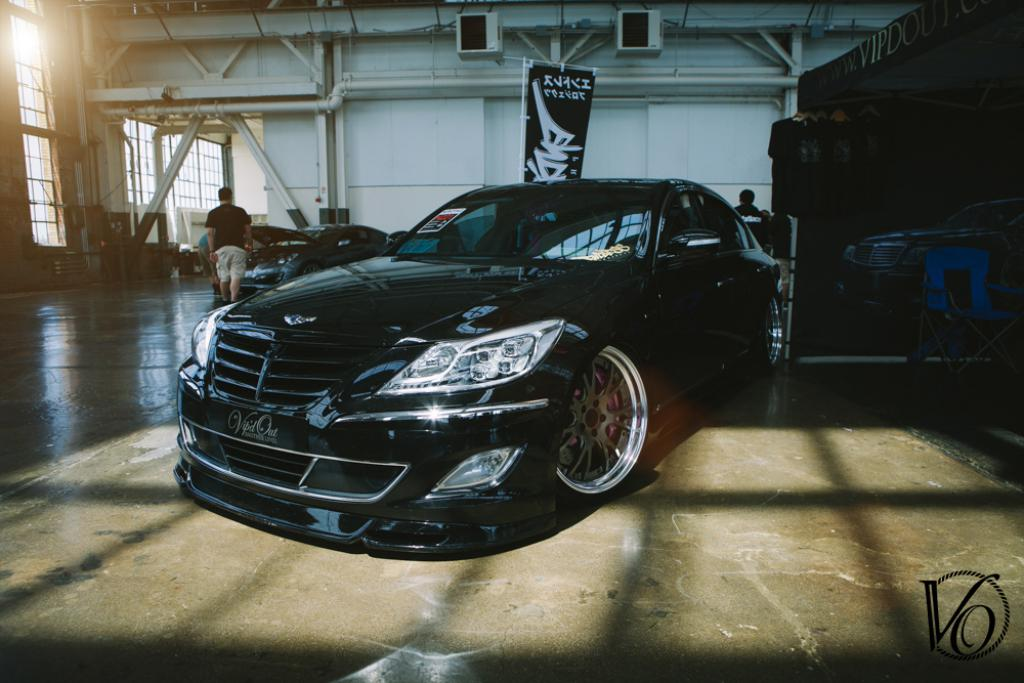cars: (160, 161, 769, 554), (833, 191, 1022, 324), (237, 218, 394, 297)
